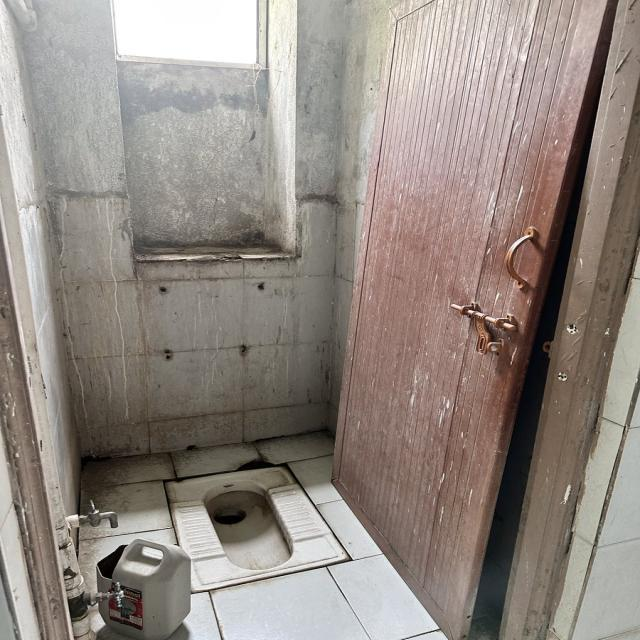dirty_floor: (4, 1, 637, 637), (75, 430, 447, 638)
